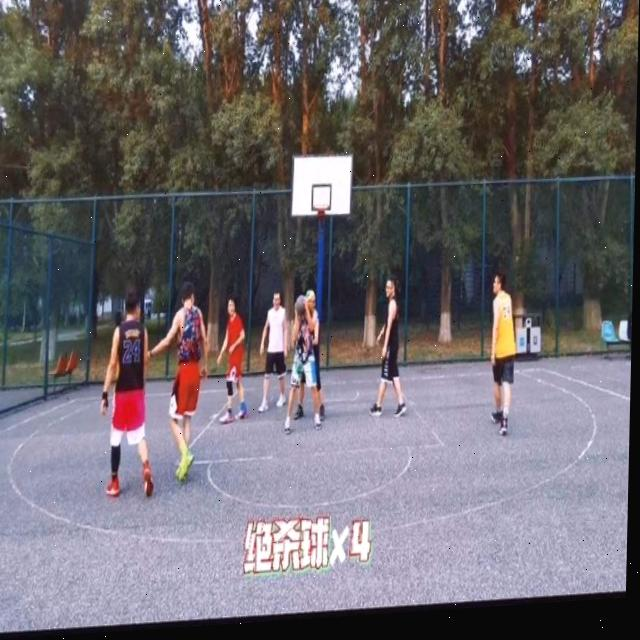basketball: (296, 295, 307, 317)
hoop: (312, 202, 331, 232)
